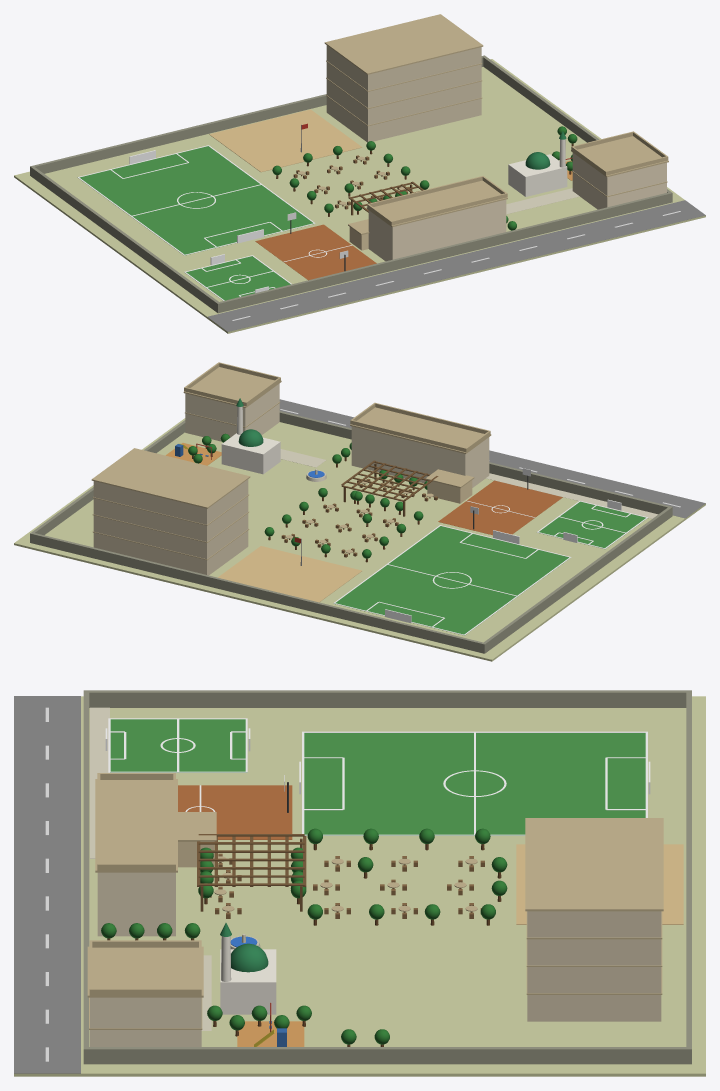
Rendered from youth-center-map-BlYIAoU5.glb.
The picture shows the model from 3 angles, top to bottom: view 1: azimuth 30°, elevation 25°; view 2: azimuth 150°, elevation 25°; view 3: azimuth 270°, elevation 25°; orthographic projection. The views are drawn at different scales.
Bounding box in the file's own units: 80 × 11.5 × 62.
